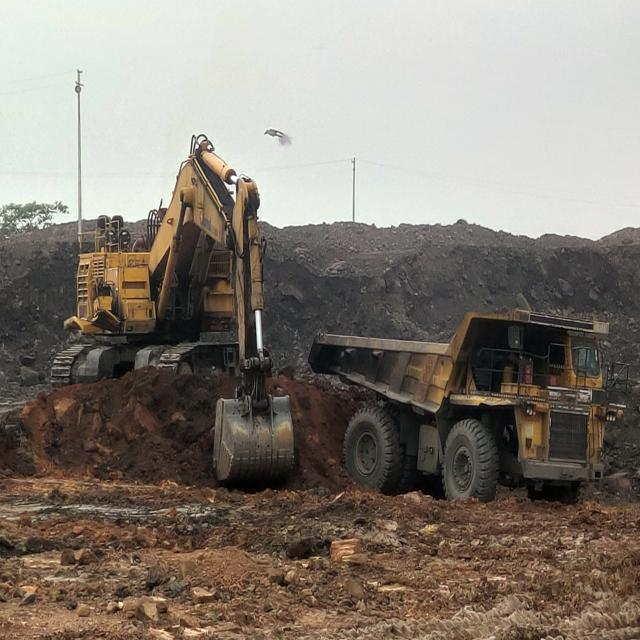dump_truck: (308, 312, 609, 504)
excavator: (51, 136, 294, 484)
